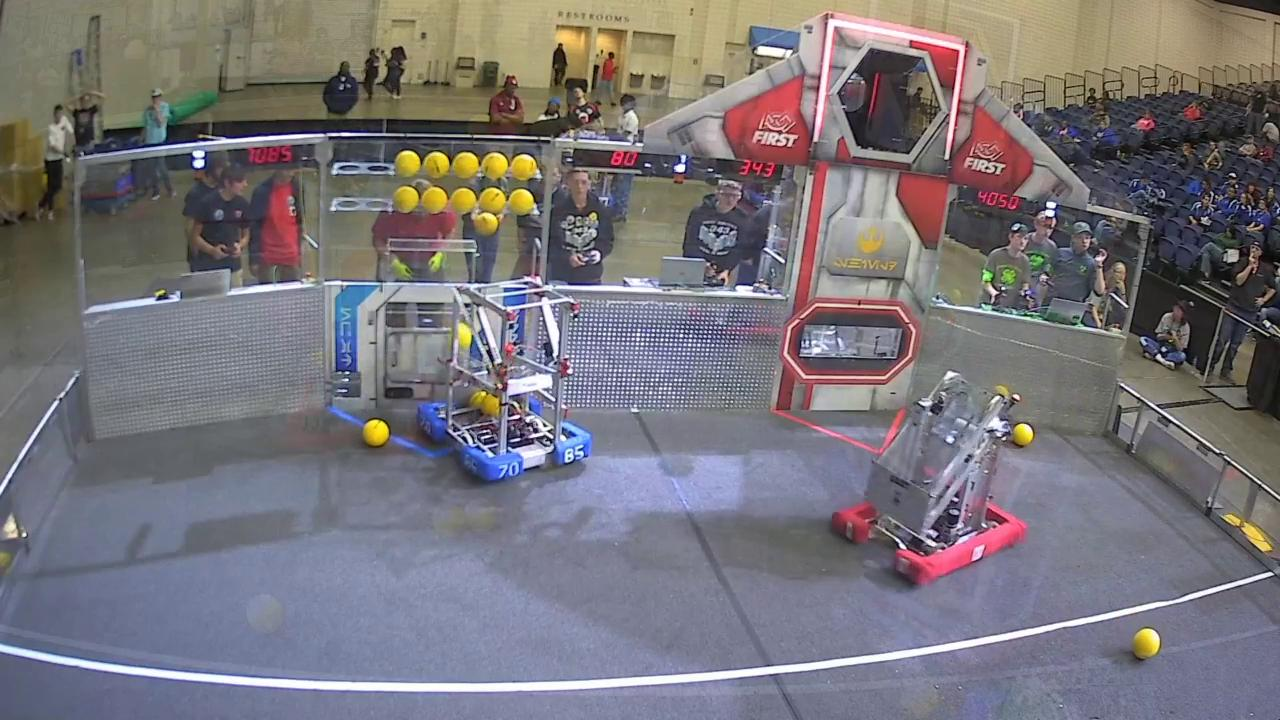robot: (828, 372, 1026, 584), (420, 280, 590, 484)
